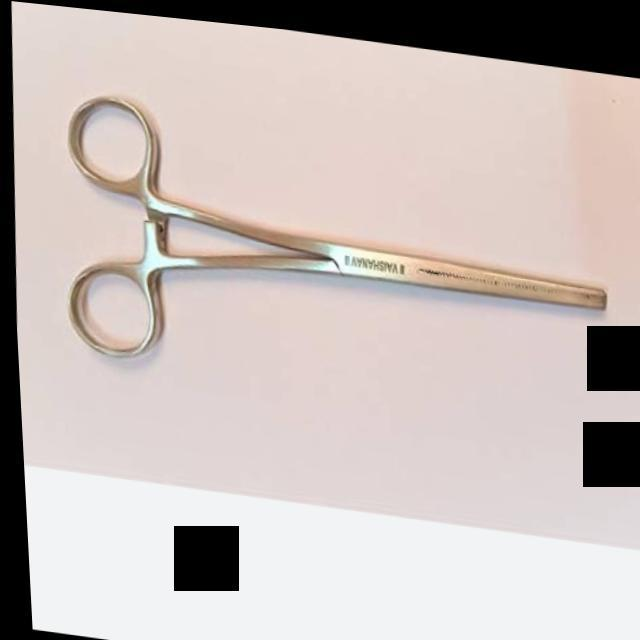Kocher Forceps: (33, 85, 618, 412)
